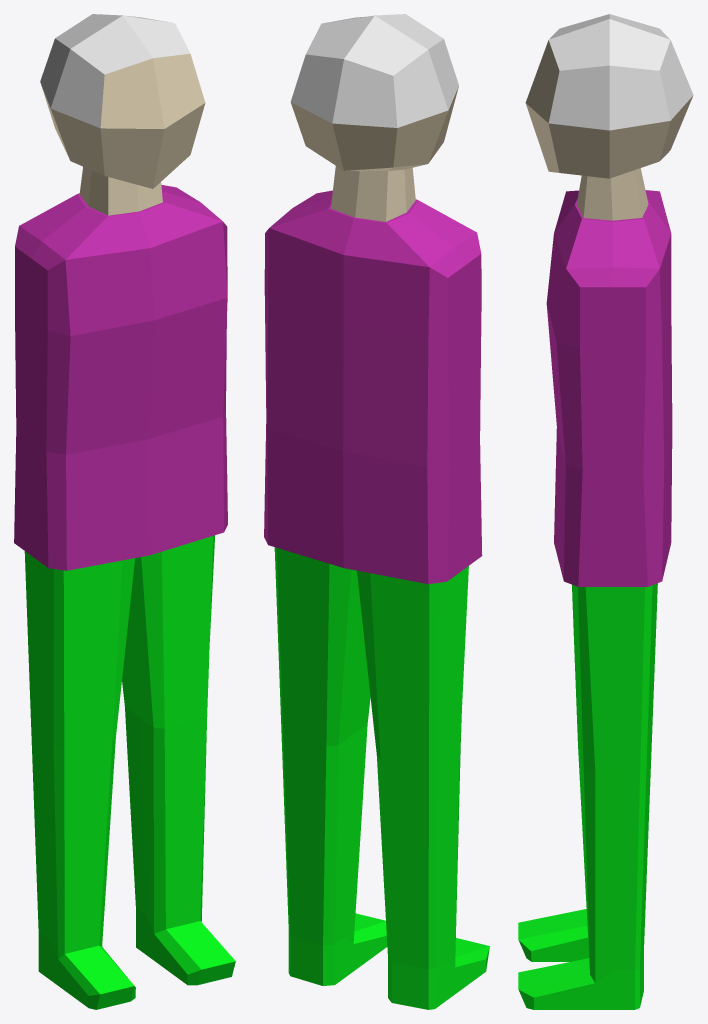
The model's file is LowpolyPersoWithout (2).fbx.
3 views of the same model, side by side, from view 1: azimuth 30°, elevation 25°; view 2: azimuth 150°, elevation 25°; view 3: azimuth 270°, elevation 25° (orthographic).
Visible parts, largest first — view 1: eRNESTO, eRNESTO.001, eRNESTO.002; view 2: eRNESTO, eRNESTO.001, eRNESTO.002; view 3: eRNESTO, eRNESTO.002, eRNESTO.001.
Part boxes in pixels (bbox=[...]): eRNESTO: bbox=[14, 14, 227, 570]; eRNESTO.001: bbox=[24, 551, 135, 1009]; eRNESTO.002: bbox=[122, 535, 235, 985]; eRNESTO: bbox=[264, 14, 482, 584]; eRNESTO.001: bbox=[357, 566, 489, 1009]; eRNESTO.002: bbox=[274, 547, 387, 985]; eRNESTO: bbox=[525, 14, 693, 586]; eRNESTO.002: bbox=[518, 583, 657, 1009]; eRNESTO.001: bbox=[518, 909, 588, 961].
Size of the model in its own units: 209 by 1054 by 175.
